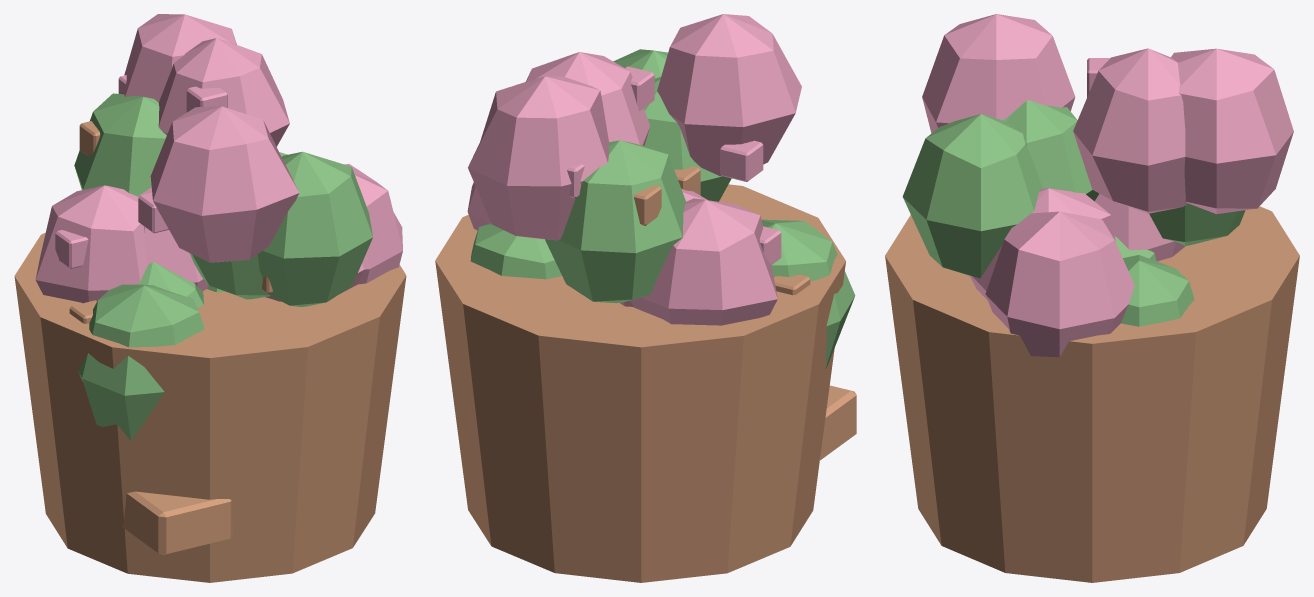
Rendered from b08_whiskey_barrel_flowers.glb.
3 views of the same model, side by side, from view 1: azimuth 30°, elevation 25°; view 2: azimuth 150°, elevation 25°; view 3: azimuth 270°, elevation 25° (orthographic). The views are drawn at different scales.
Visible parts, largest first — view 1: b08_whiskey_barrel_flowers; view 2: b08_whiskey_barrel_flowers; view 3: b08_whiskey_barrel_flowers.
Boxes of the visible parts, x1,y1,x2,y2 form: b08_whiskey_barrel_flowers: [14, 14, 406, 582]; b08_whiskey_barrel_flowers: [435, 14, 856, 582]; b08_whiskey_barrel_flowers: [885, 14, 1299, 582].
Size of the model in its own units: 0.808 by 1 by 0.788.
